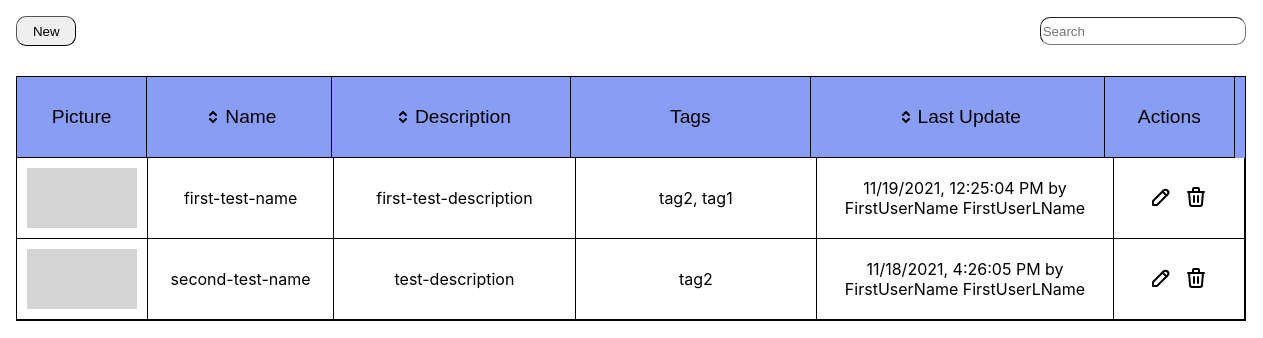
Test: sort table › models should be sorted by last update in ascending
Click the button "Last Update": (957, 117) [821,87,1094,147]
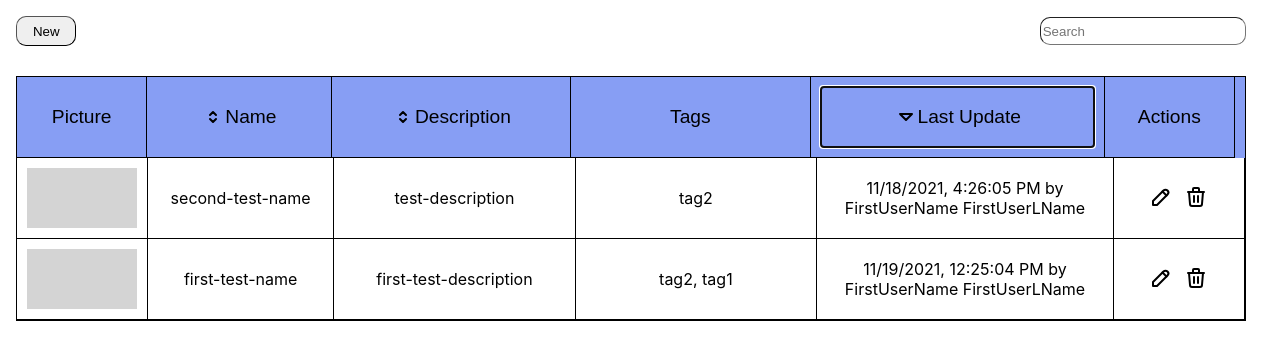
Now the text "second-test-name" is shown, box [148,158,334,239]
Now the text "first-test-name" is shown, box [148,239,334,320]
